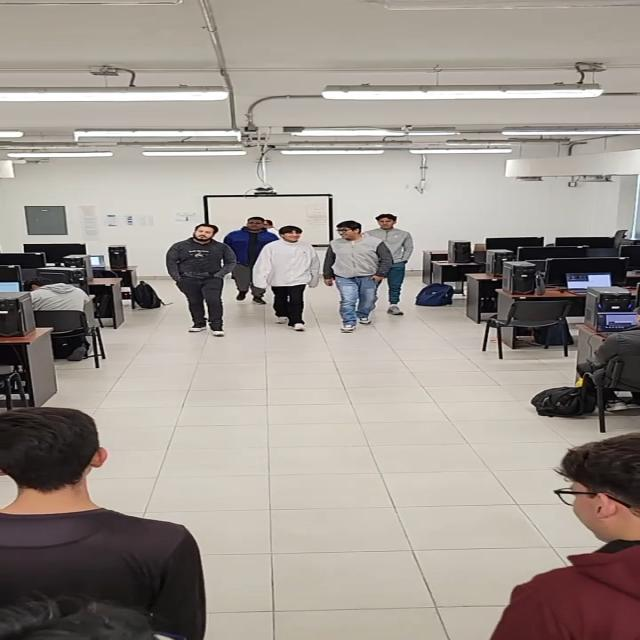Persona: (0, 406, 209, 640), (490, 430, 640, 640), (166, 224, 238, 337), (323, 220, 394, 332), (252, 226, 321, 331), (362, 214, 415, 316), (224, 216, 281, 305), (263, 217, 285, 243)
